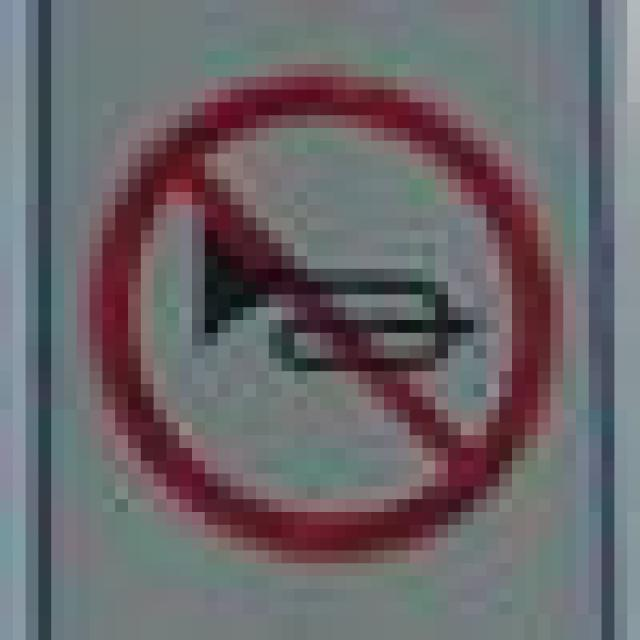HORN_PROHIBITED: (77, 64, 550, 550)
